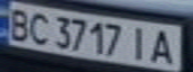1: (84, 19, 106, 55)
3: (48, 12, 72, 50)
7: (103, 20, 127, 57), (66, 16, 87, 52)
A: (148, 26, 181, 65)
B: (3, 4, 33, 42)
C: (24, 9, 54, 46)
I: (127, 24, 154, 62)
